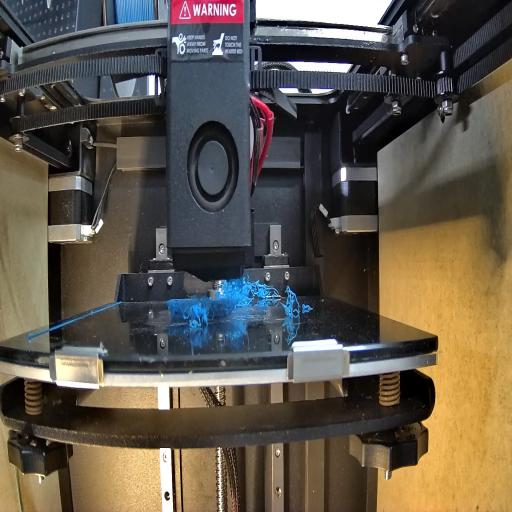spaghetti: (216, 278, 283, 306), (185, 290, 215, 334), (283, 286, 305, 321)
